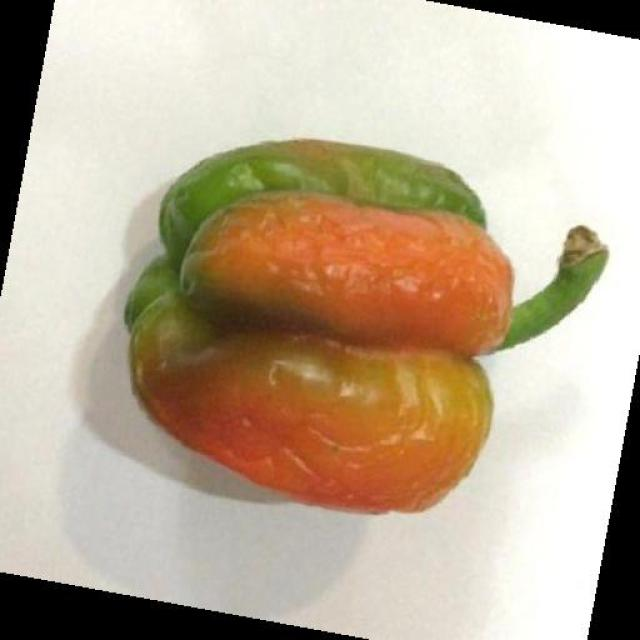Stale_Capsicum: (115, 117, 586, 585)
